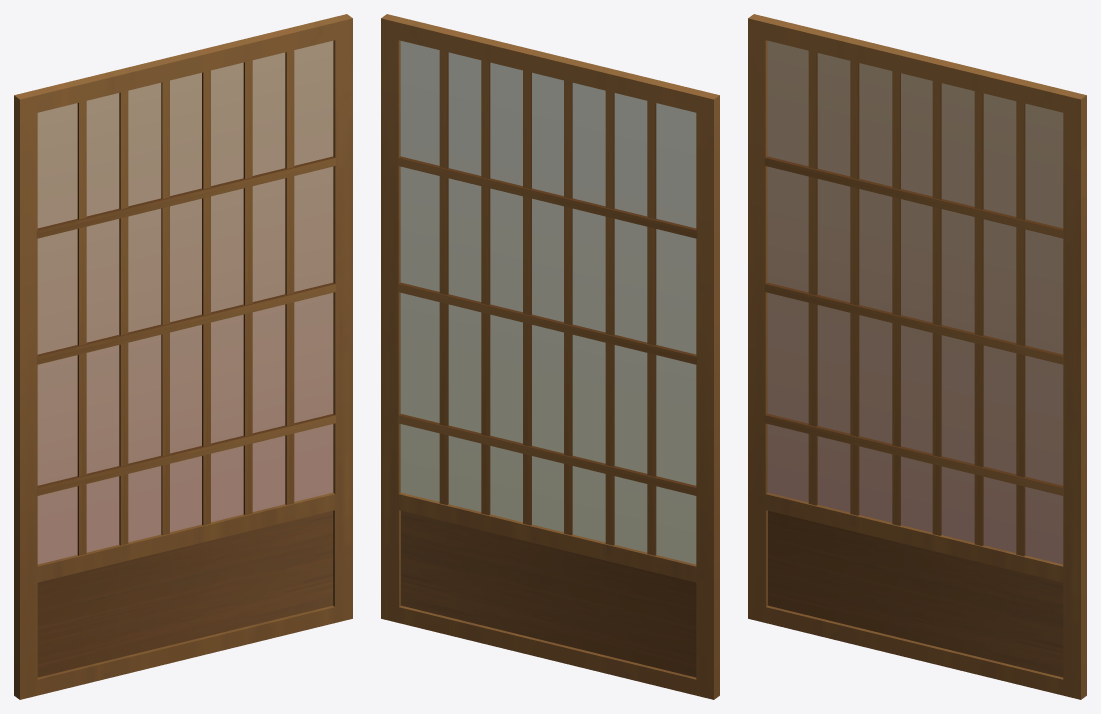
The model's file is SK_Door_001.FBX.
3 views of the same model, side by side, from view 1: azimuth 30°, elevation 25°; view 2: azimuth 150°, elevation 25°; view 3: azimuth 330°, elevation 25° (orthographic).
Parts seen in each view (by area): view 1: SK_HouseDoor_001, SK_DoorWhite; view 2: SK_HouseDoor_001, SK_DoorWhite; view 3: SK_HouseDoor_001, SK_DoorWhite.
Part boxes in pixels (<box>): SK_HouseDoor_001: <box>14,14,352,699</box>; SK_DoorWhite: <box>37,41,333,564</box>; SK_HouseDoor_001: <box>381,14,719,699</box>; SK_DoorWhite: <box>400,41,696,564</box>; SK_HouseDoor_001: <box>748,14,1086,699</box>; SK_DoorWhite: <box>767,41,1063,564</box>.
Size of the model in its own units: 125 by 216 by 4.01.
